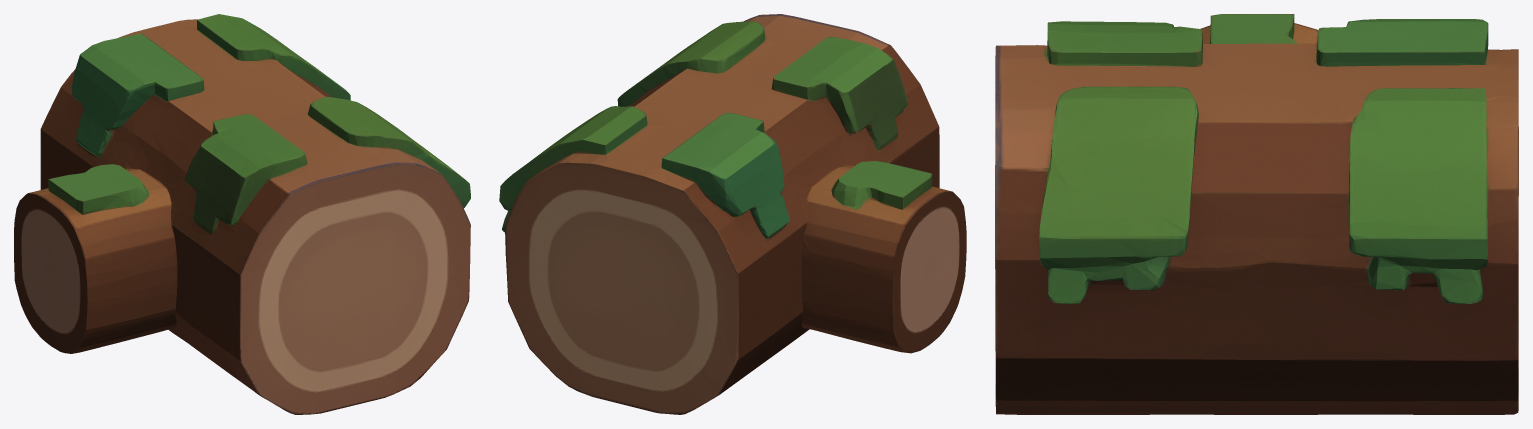
The model's file is fallen-log.glb.
3 renders of one model, left to right at view 1: azimuth 30°, elevation 25°; view 2: azimuth 150°, elevation 25°; view 3: azimuth 270°, elevation 25°, orthographic. The views are drawn at different scales.
Visible parts, largest first — view 1: world; view 2: world; view 3: world.
Part boxes in pixels (x1,y1,x2,y2): world: [14, 14, 470, 414]; world: [499, 14, 966, 414]; world: [995, 14, 1518, 414].
Bounding box in the file's own units: 0.623 × 0.424 × 0.6336.
Materials: 1 (1 with a texture image).
